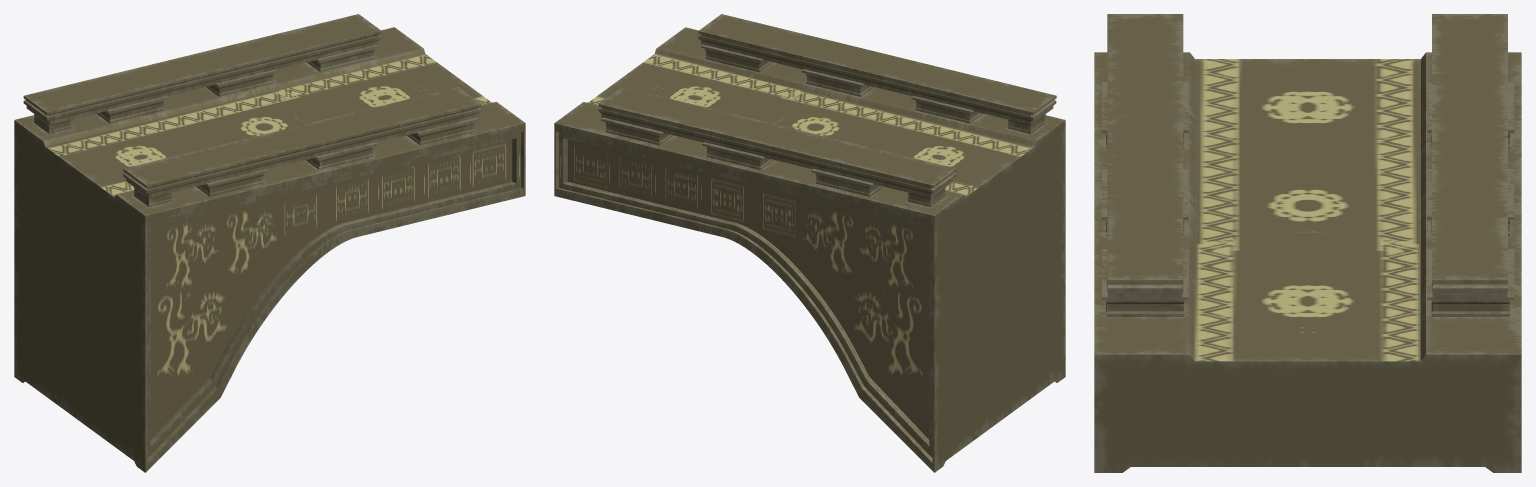
The model's file is BRIDGE A.fbx.
3 renders of one model, left to right at view 1: azimuth 30°, elevation 25°; view 2: azimuth 150°, elevation 25°; view 3: azimuth 270°, elevation 25°, orthographic. The views are drawn at different scales.
Parts seen in each view (by area): view 1: BRIDGE A; view 2: BRIDGE A; view 3: BRIDGE A.
Part boxes in pixels (box(x1,y1,x2,y2)): BRIDGE A: box(14, 14, 525, 472); BRIDGE A: box(554, 14, 1065, 472); BRIDGE A: box(1094, 14, 1521, 472).
Size of the model in its own units: 9.32 by 6.63 by 5.57.
